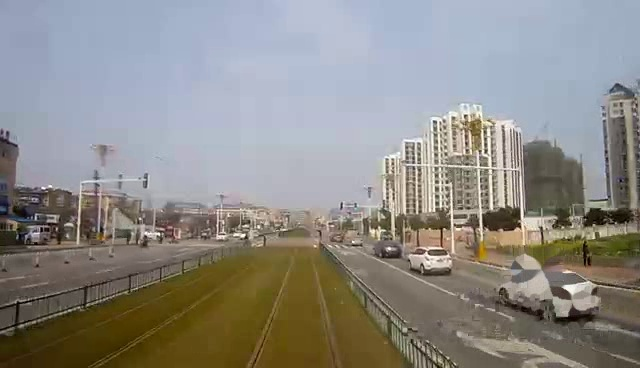car: (496, 265, 604, 322), (406, 243, 456, 274), (371, 236, 407, 260), (344, 233, 369, 248)
